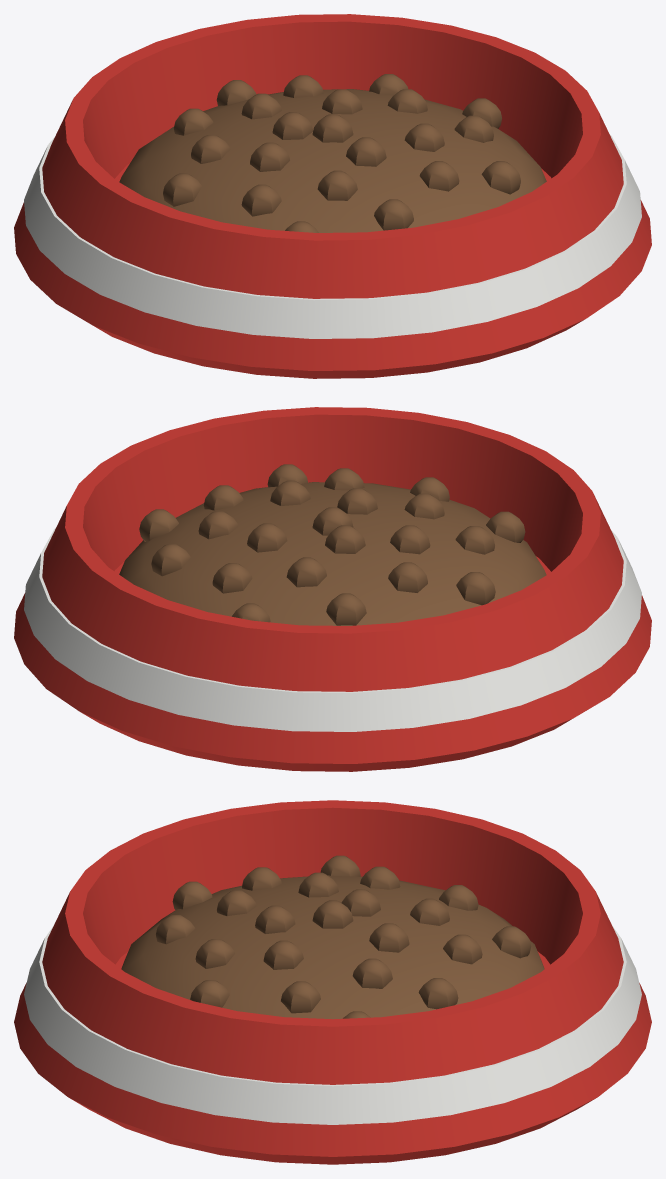
File: shallow_dog_food_bowl.glb
The picture shows the model from 3 angles, top to bottom: view 1: azimuth 30°, elevation 25°; view 2: azimuth 150°, elevation 25°; view 3: azimuth 270°, elevation 25°; orthographic projection.
Visible parts, largest first — view 1: ShallowDogFoodBowl; view 2: ShallowDogFoodBowl; view 3: ShallowDogFoodBowl.
Boxes of the visible parts, <box> form: ShallowDogFoodBowl: <box>14,14,651,378</box>; ShallowDogFoodBowl: <box>14,407,651,771</box>; ShallowDogFoodBowl: <box>14,800,651,1164</box>.
Size of the model in its own units: 0.25 by 0.068 by 0.25.
